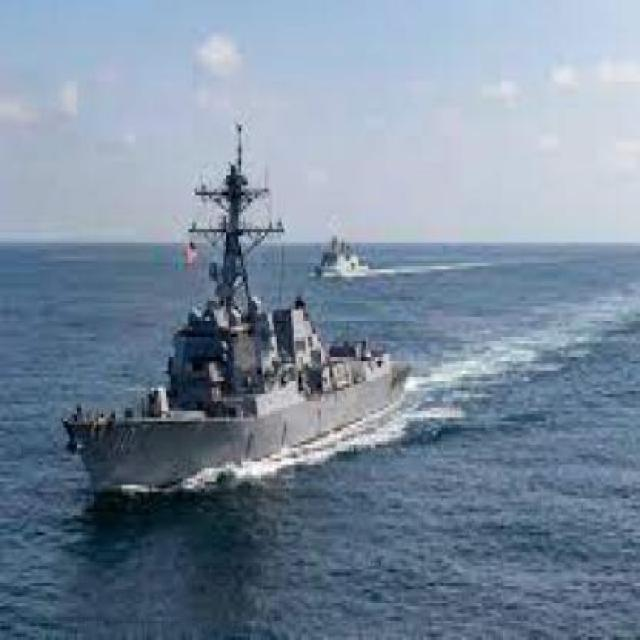warship2: (69, 105, 430, 516), (304, 213, 381, 287)
